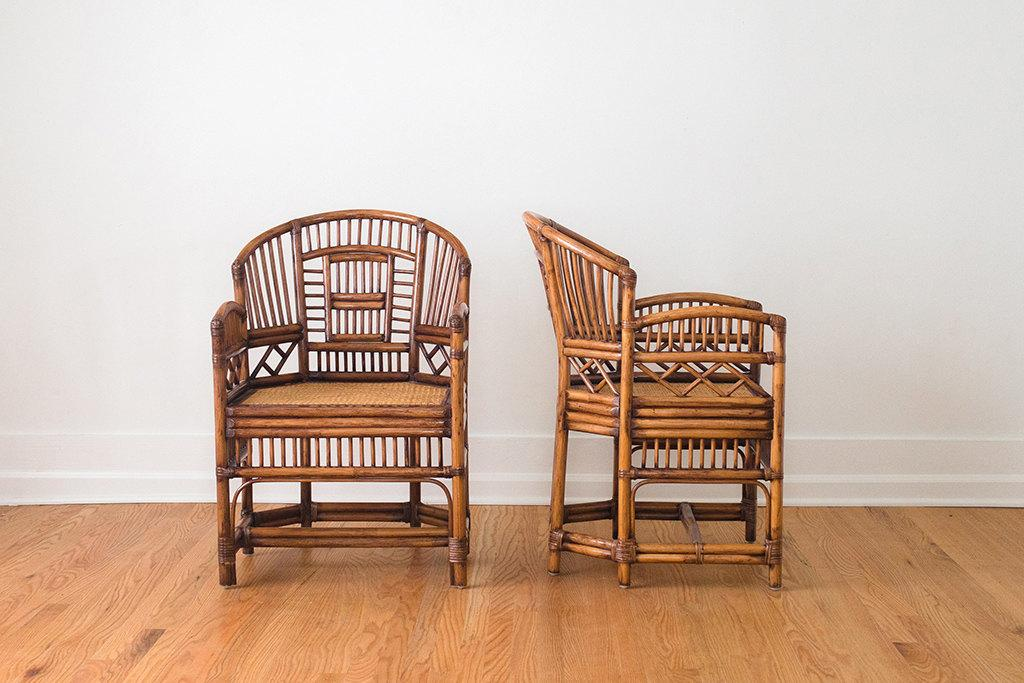Chair: (521, 205, 784, 588), (207, 208, 470, 588)
